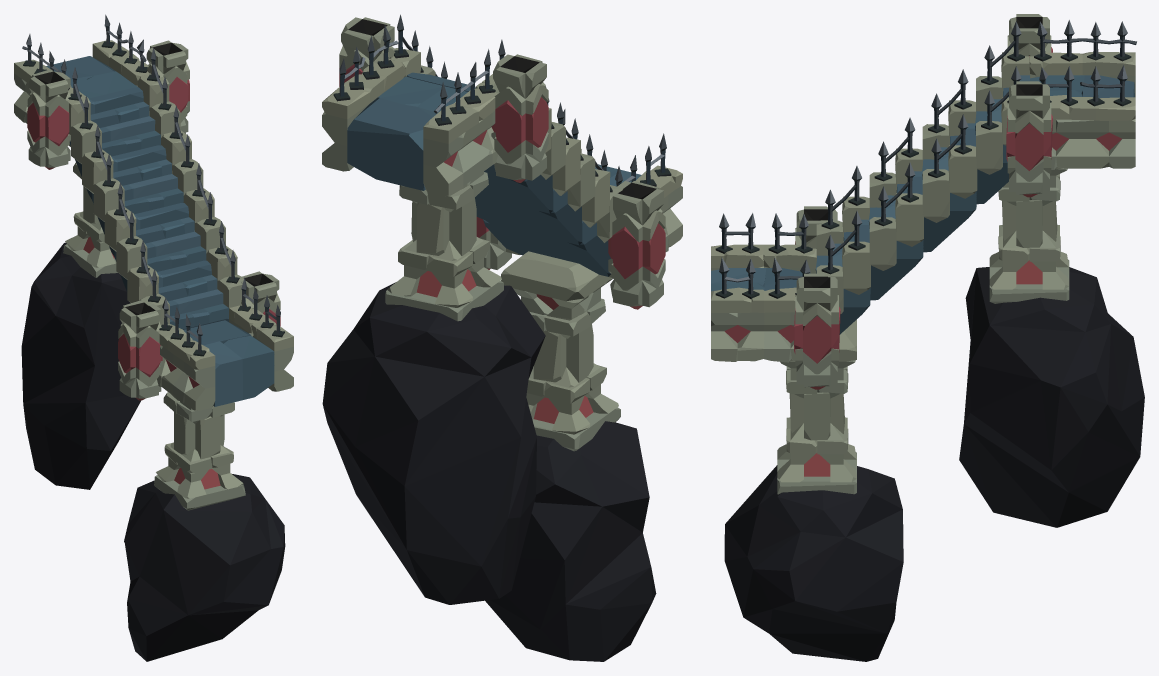
Rendered from bridge_I_stairs.fbx.
3 views of the same model, side by side, from view 1: azimuth 30°, elevation 25°; view 2: azimuth 150°, elevation 25°; view 3: azimuth 270°, elevation 25° (orthographic). The views are drawn at different scales.
Parts seen in each view (by area): view 1: bridge_I_stairs; view 2: bridge_I_stairs; view 3: bridge_I_stairs.
Boxes of the visible parts, x1,y1,x2,y2 form: bridge_I_stairs: [14, 14, 293, 661]; bridge_I_stairs: [322, 14, 682, 661]; bridge_I_stairs: [711, 14, 1144, 661].
Size of the model in its own units: 389 by 1293 by 817.
